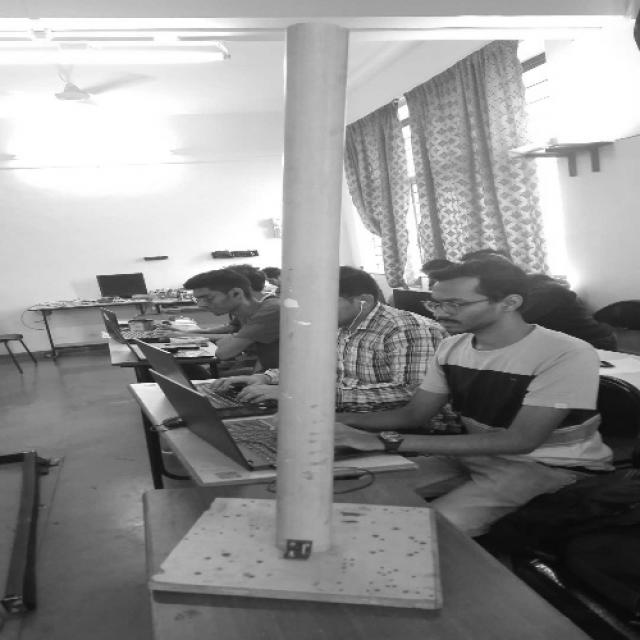poles: (144, 15, 455, 617)
